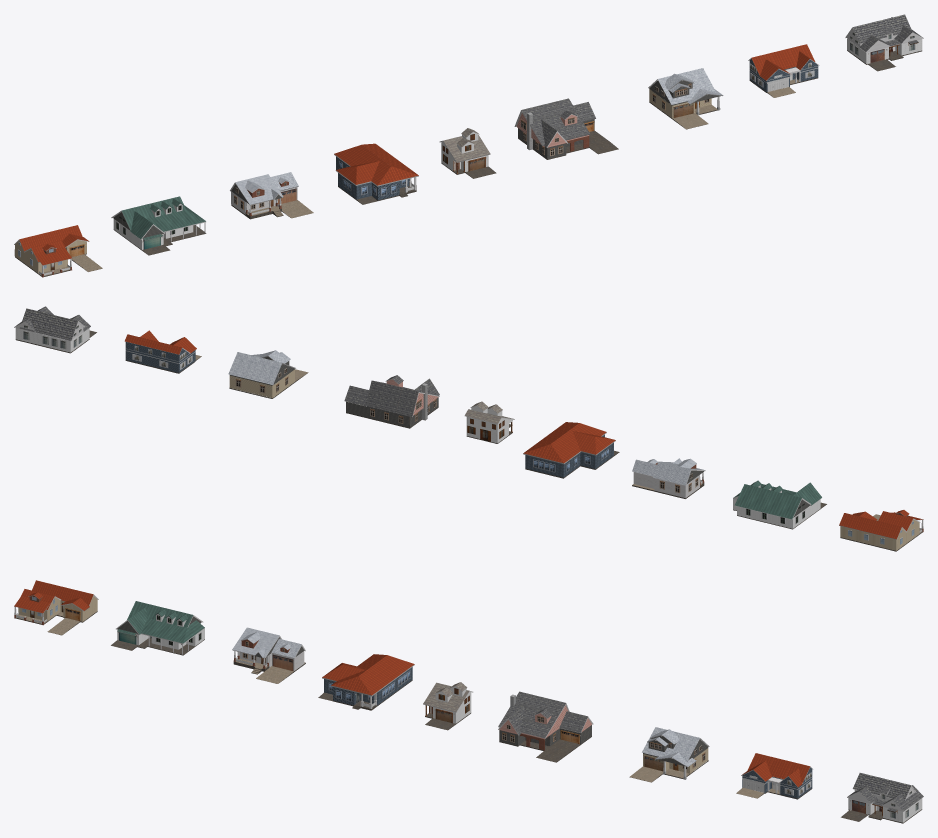
The model's file is la_houses_005_006.fbx.
3 renders of one model, top to bottom at view 1: azimuth 30°, elevation 25°; view 2: azimuth 150°, elevation 25°; view 3: azimuth 330°, elevation 25°, orthographic.
Visible parts, largest first — view 1: house_06, house_04, house_02, house_07, house_09, house_01, house_03, house_08, house_05; view 2: house_04, house_06, house_02, house_07, house_01, house_09, house_03, house_08, house_05; view 3: house_06, house_04, house_02, house_01, house_09, house_07, house_03, house_08, house_05.
Part boxes in pixels (x1,y1,x2,y2): house_06: (514,98,618,159); house_04: (334,143,418,204); house_02: (111,196,206,255); house_07: (648,68,723,129); house_09: (845,14,923,71); house_01: (14,225,102,277); house_03: (230,172,313,219); house_08: (748,44,819,97); house_05: (439,128,496,178); house_04: (523,422,619,478); house_06: (344,375,439,428); house_02: (733,480,826,529); house_07: (228,350,308,398); house_01: (839,510,923,551); house_09: (14,306,96,353); house_03: (632,458,705,498); house_08: (124,330,201,373); house_05: (464,401,514,443); house_06: (498,691,593,762); house_04: (318,654,414,710); house_02: (111,601,204,655); house_01: (14,580,98,635); house_09: (841,773,923,823); house_07: (629,727,709,782); house_03: (232,627,305,683); house_08: (736,753,813,799); house_05: (423,682,473,730).
Bounding box in the file's own units: 221 × 8.38 × 21.37.
